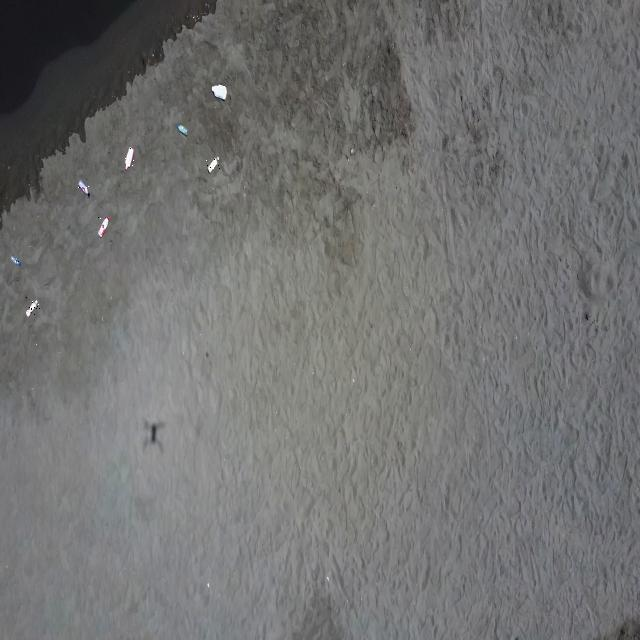Garbage: (212, 84, 226, 100), (98, 216, 107, 236), (207, 156, 218, 172), (77, 180, 88, 196), (26, 300, 37, 316), (124, 147, 132, 169), (176, 123, 187, 135), (9, 255, 20, 266)
